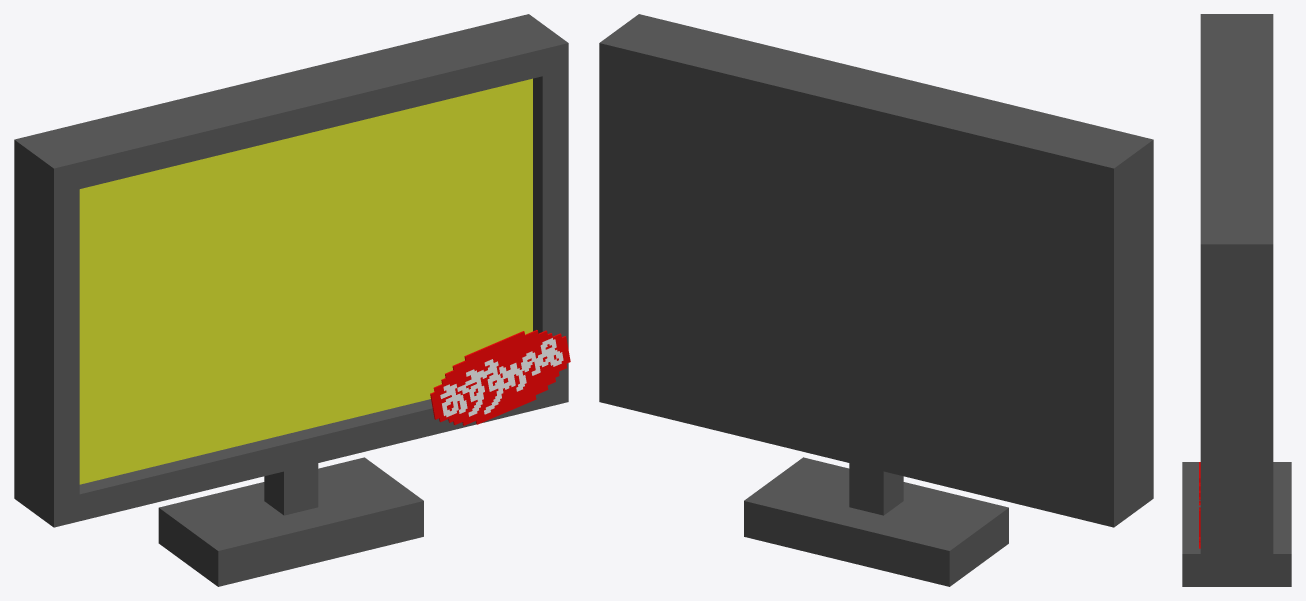
The model's file is otoshimono.glb.
3 views of the same model, side by side, from view 1: azimuth 30°, elevation 25°; view 2: azimuth 150°, elevation 25°; view 3: azimuth 270°, elevation 25° (orthographic). The views are drawn at different scales.
Parts seen in each view (by area): view 1: otoshimono; view 2: otoshimono; view 3: otoshimono.
Part boxes in pixels (x1=…): otoshimono: x1=14, y1=14, x2=570, y2=586; otoshimono: x1=599, y1=14, x2=1153, y2=586; otoshimono: x1=1182, y1=14, x2=1291, y2=586.
Bounding box in the file's own units: 3.01 × 2.5 × 0.6.
Materials: 3 (1 with a texture image).
